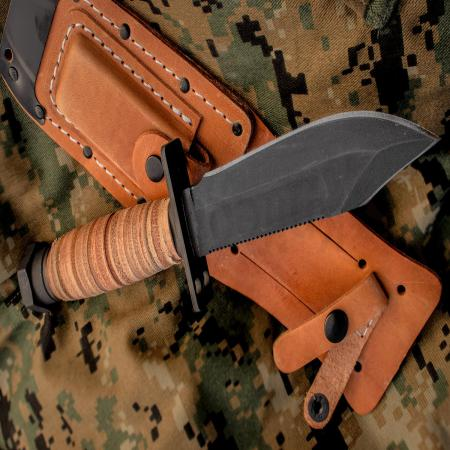long weapon: (183, 97, 445, 266)
